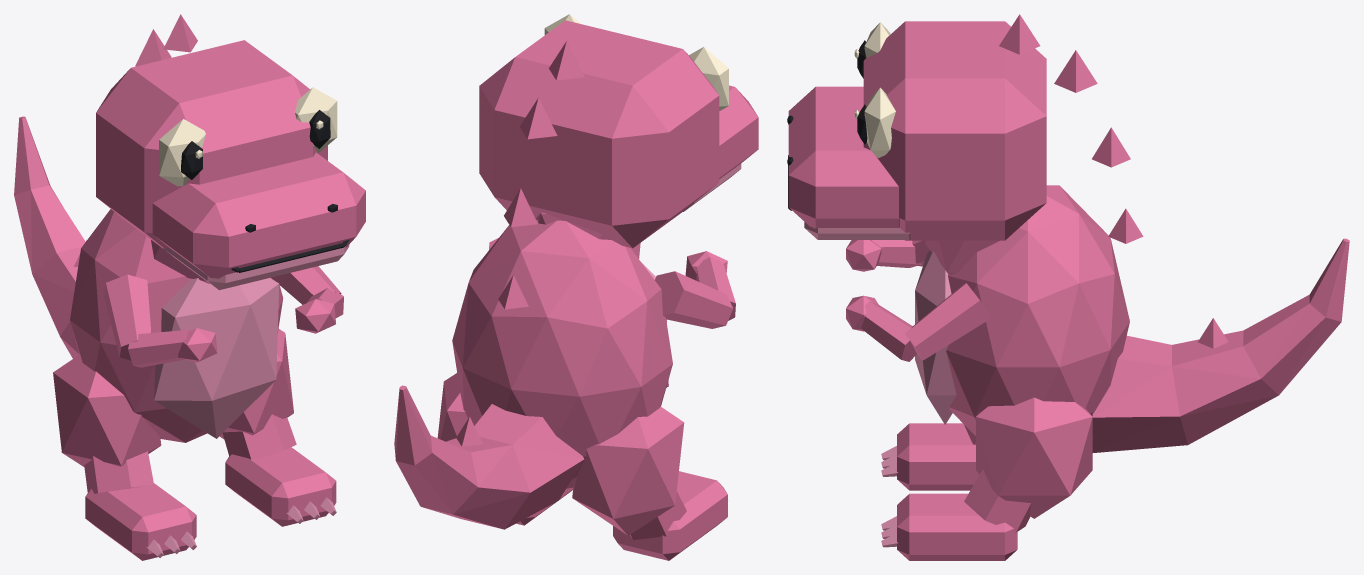
Rendered from Dinosaure_rose.glb.
The picture shows the model from 3 angles, left to right: view 1: azimuth 30°, elevation 25°; view 2: azimuth 150°, elevation 25°; view 3: azimuth 270°, elevation 25°; orthographic projection. The views are drawn at different scales.
Parts seen in each view (by area): view 1: Dinosaure_rose; view 2: Dinosaure_rose; view 3: Dinosaure_rose.
Boxes of the visible parts, <box> form: Dinosaure_rose: <box>14,14,365,560</box>; Dinosaure_rose: <box>394,14,758,560</box>; Dinosaure_rose: <box>787,14,1349,560</box>.
Bounding box in the file's own units: 1.28 × 2.66 × 2.7.
